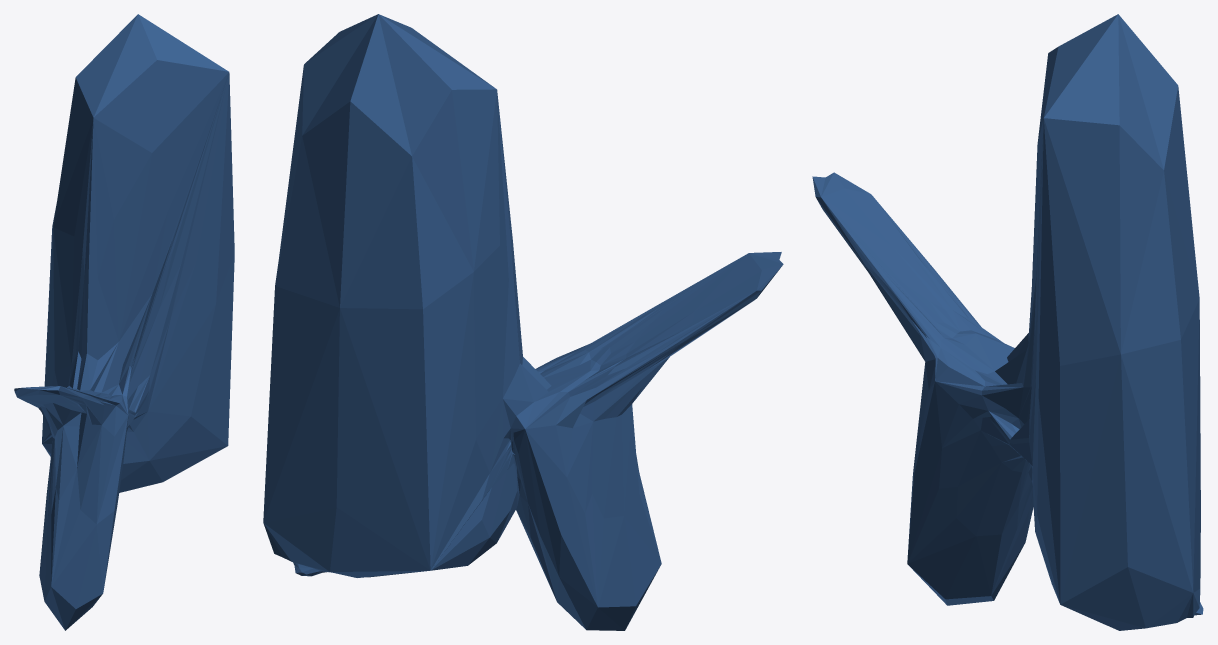
The picture shows the model from 3 angles, left to right: view 1: azimuth 30°, elevation 25°; view 2: azimuth 150°, elevation 25°; view 3: azimuth 270°, elevation 25°; orthographic projection. The views are drawn at different scales.
Visible parts, largest first — view 1: 237_Cube.976; view 2: 237_Cube.976; view 3: 237_Cube.976.
Part boxes in pixels (box(x1,y1,x2,y2)): 237_Cube.976: box(14, 14, 234, 630); 237_Cube.976: box(263, 14, 783, 630); 237_Cube.976: box(812, 14, 1203, 630).
Size of the model in its own units: 8.8 by 14.39 by 7.51.
